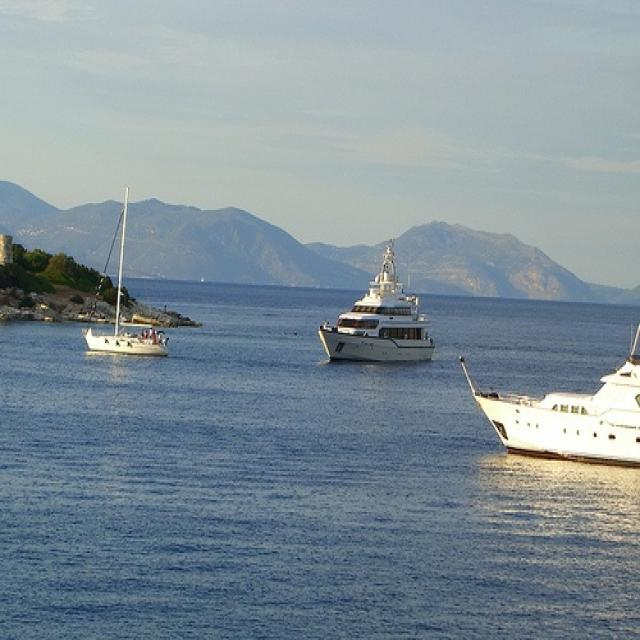boat: (455, 312, 640, 477), (77, 185, 182, 363), (315, 228, 445, 370)
